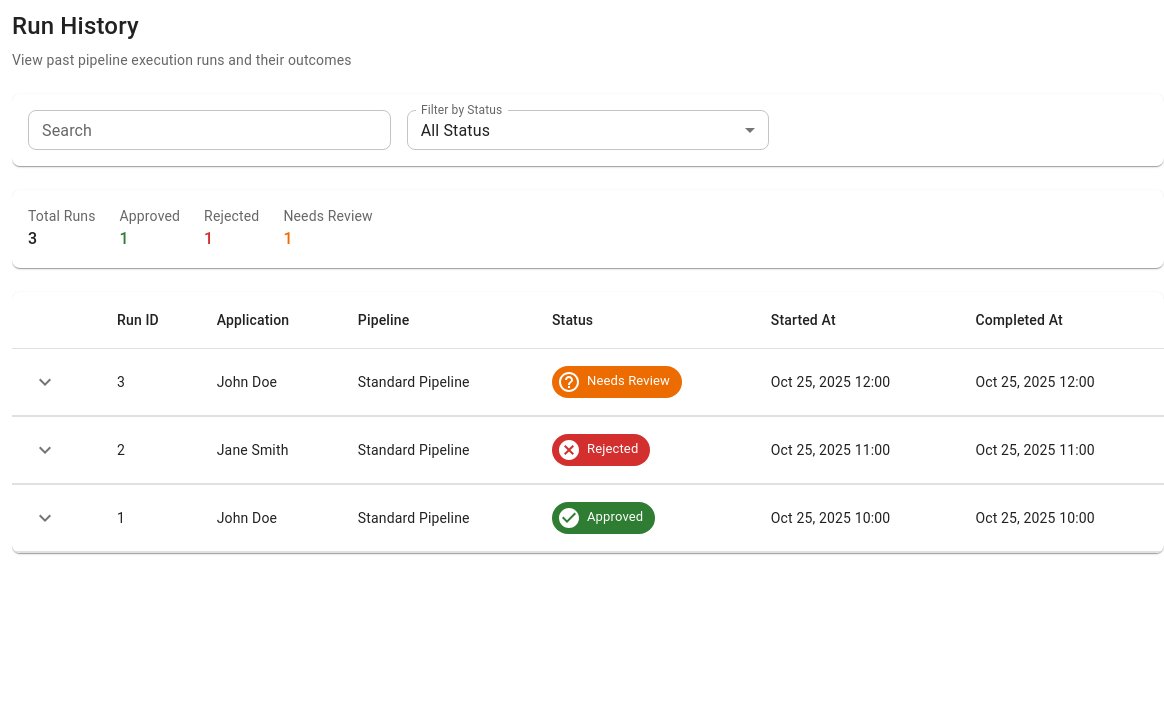
Test case: Runs Page › Expandable Rows › should show step details when row is expanded
Click the 3rd button. click: x=45, y=518
box: [28,501,62,535]
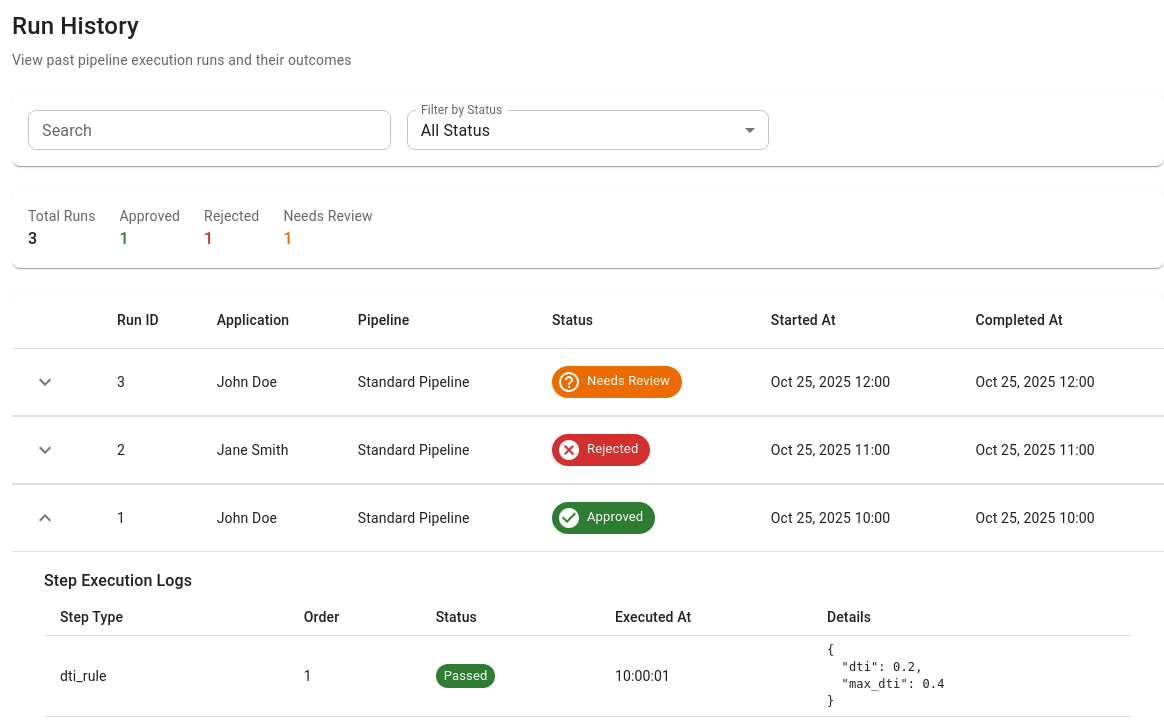
Expected: the text "dti_rule" is shown, [44,635,288,717]
Expected: the text "Passed" is shown, [444,668,488,683]
